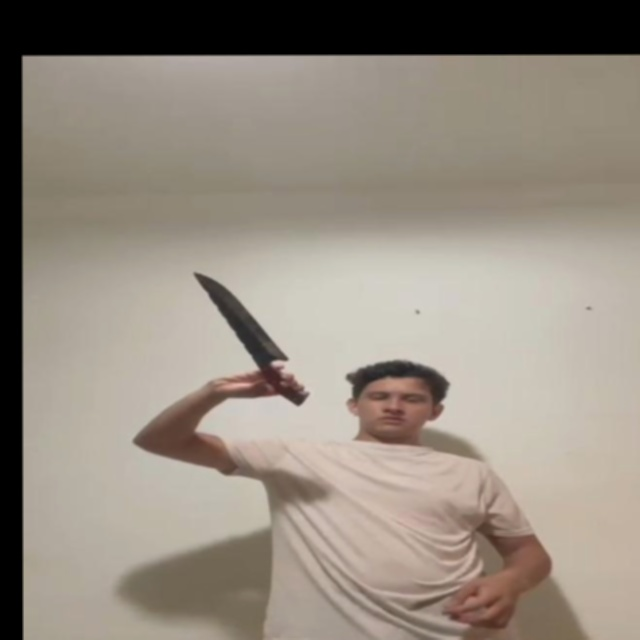Sharp-Object: (190, 270, 290, 365)
